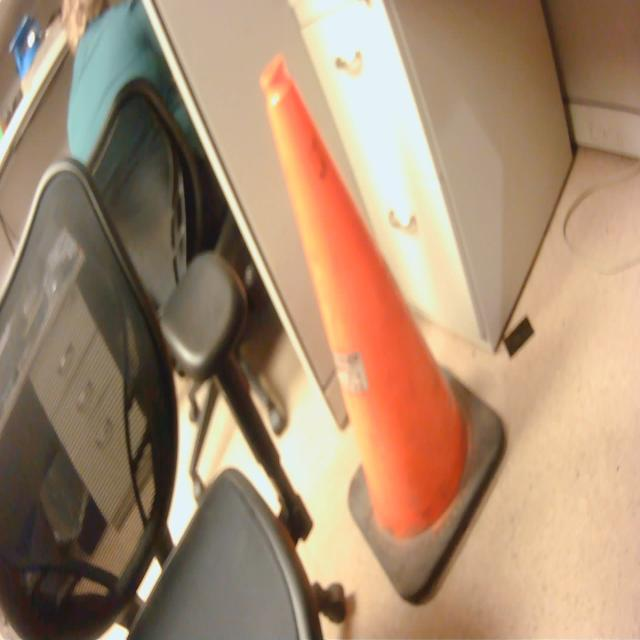traffic cone: (255, 44, 512, 613)
